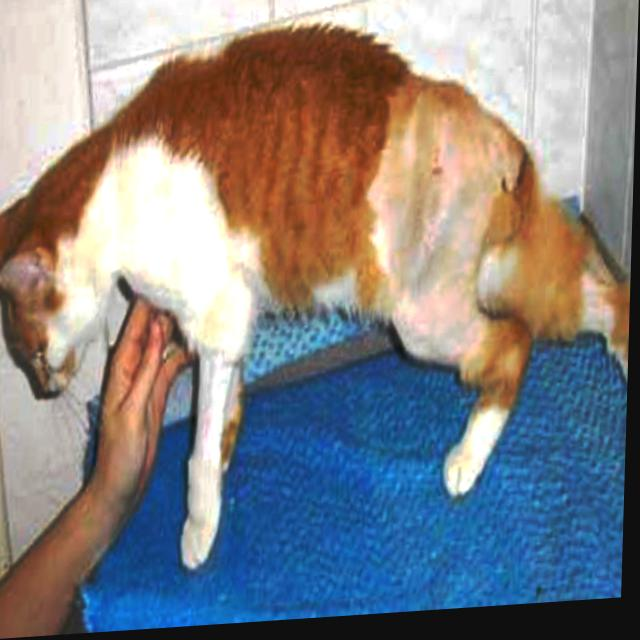hairloss: (71, 149, 259, 569), (380, 112, 518, 369), (582, 284, 610, 329)
